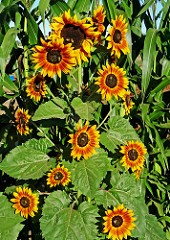flower: (48, 8, 101, 67), (29, 34, 80, 83), (65, 117, 102, 163), (92, 60, 130, 103), (104, 13, 134, 59), (101, 203, 138, 240), (118, 139, 149, 176), (10, 185, 41, 219), (23, 70, 50, 104), (45, 164, 72, 189), (14, 107, 32, 138)
